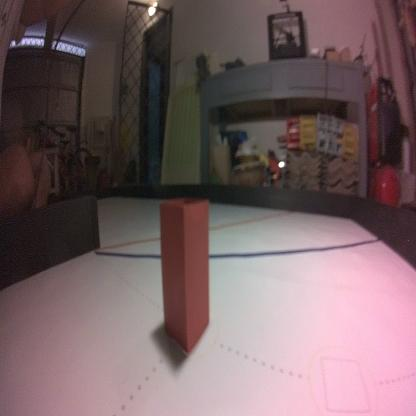red: (158, 194, 212, 357)
